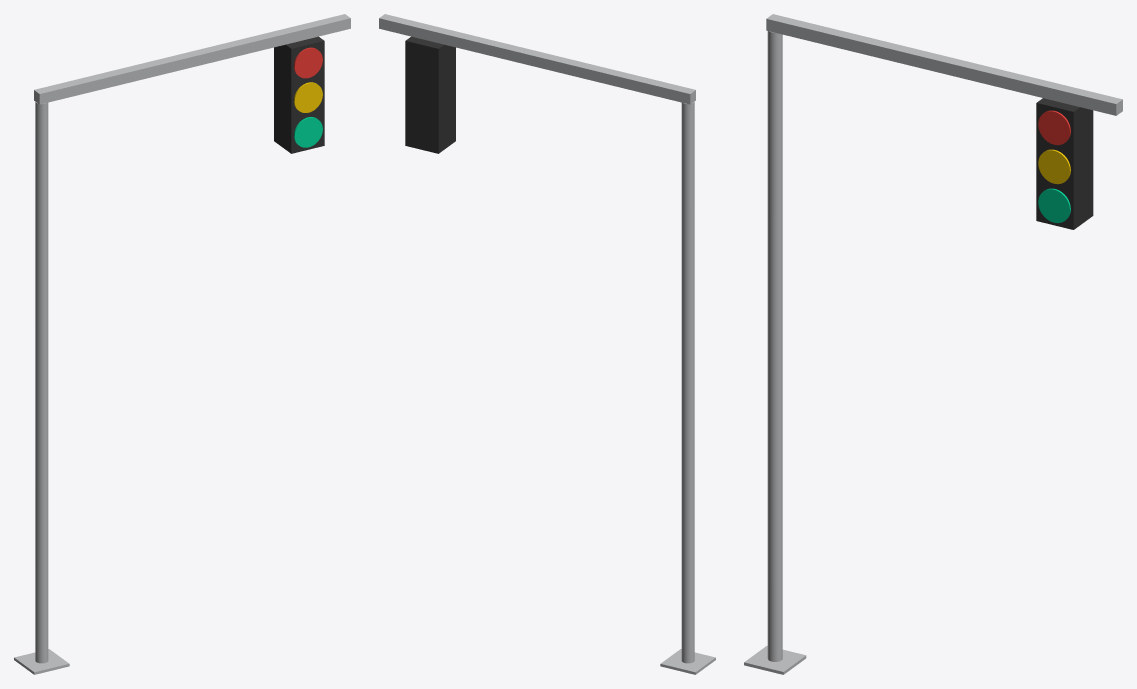
File: traffic_light.glb
3 views of the same model, side by side, from view 1: azimuth 30°, elevation 25°; view 2: azimuth 150°, elevation 25°; view 3: azimuth 330°, elevation 25° (orthographic). The views are drawn at different scales.
Parts seen in each view (by area): view 1: pole, mast_arm, head, base_plate, lens_amber, lens_green, lens_red; view 2: pole, head, mast_arm, base_plate; view 3: pole, mast_arm, head, base_plate, lens_red, lens_amber, lens_green.
Part boxes in pixels (left/top/right/bottom): pole: left=35, top=101, right=48, bottom=663; mast_arm: left=34, top=14, right=350, bottom=104; head: left=274, top=36, right=324, bottom=153; base_plate: left=14, top=649, right=69, bottom=674; lens_amber: left=294, top=82, right=322, bottom=112; lens_green: left=294, top=117, right=322, bottom=147; lens_red: left=294, top=47, right=322, bottom=78; pole: left=681, top=101, right=694, bottom=663; head: left=405, top=36, right=455, bottom=153; mast_arm: left=379, top=14, right=695, bottom=104; base_plate: left=660, top=649, right=715, bottom=674; pole: left=767, top=31, right=782, bottom=661; mast_arm: left=766, top=14, right=1122, bottom=115; head: left=1036, top=98, right=1093, bottom=229; base_plate: left=744, top=646, right=806, bottom=674; lens_red: left=1038, top=110, right=1070, bottom=145; lens_amber: left=1038, top=149, right=1070, bottom=184; lens_green: left=1038, top=188, right=1070, bottom=223.
Bounding box in the file's own units: 3.22 × 5.45 × 0.35.
